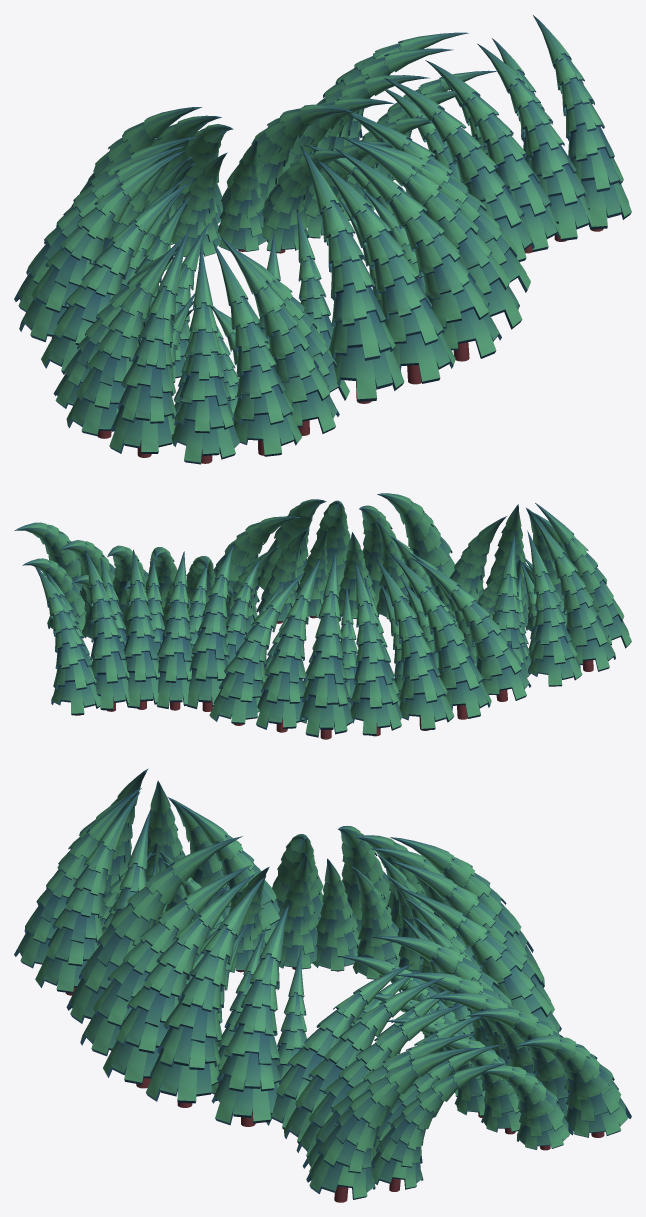
The model's file is Trees_Lowpoly.fbx.
3 renders of one model, top to bottom at view 1: azimuth 30°, elevation 25°; view 2: azimuth 150°, elevation 25°; view 3: azimuth 270°, elevation 25°, orthographic. The views are drawn at different scales.
Parts seen in each view (by area): view 1: Tree_28, Tree_27, Tree_26, Tree_40, Tree_39, Tree_38, Tree_48, Tree_11, Tree_41, Tree_37, Tree_47, Tree_25 (+33 smaller); view 2: Tree_14, Tree_15, Tree_12, Tree_13, Tree_11, Tree_16, Tree_10, Tree_58, Tree_41, Tree_42, Tree_54, Tree_55 (+39 smaller); view 3: Tree_25, Tree_24, Tree_26, Tree_48, Tree_28, Tree_37, Tree_27, Tree_54, Tree_53, Tree_16, Tree_45, Tree_44 (+34 smaller).
Boxes of the visible parts, x1,y1,x2,y2 form: Tree_28: (300,145,404,403); Tree_27: (314,157,455,384); Tree_26: (334,148,501,361); Tree_40: (109,228,189,457); Tree_39: (171,244,240,464); Tree_38: (212,241,302,456); Tree_48: (533,15,631,231); Tree_11: (19,150,185,342); Tree_41: (66,236,184,438); Tree_37: (219,235,339,435); Tree_47: (477,43,593,241); Tree_25: (342,137,522,329); Tree_14: (299,550,352,739); Tree_15: (256,557,321,732); Tree_12: (376,559,454,730); Tree_13: (350,562,402,736); Tree_11: (389,552,491,719); Tree_16: (209,572,304,725); Tree_10: (412,558,530,701); Tree_58: (187,544,234,711); Tree_41: (531,515,615,671); Tree_42: (527,530,582,686); Tree_54: (34,565,100,715); Tree_55: (85,550,129,711); Tree_25: (146,875,266,1107); Tree_24: (211,902,289,1126); Tree_26: (103,873,256,1088); Tree_48: (306,1048,479,1202); Tree_28: (66,836,242,1023); Tree_37: (35,791,140,995); Tree_27: (80,865,251,1056); Tree_54: (515,1035,631,1137); Tree_53: (372,1063,508,1191); Tree_16: (400,888,561,1033); Tree_45: (284,977,444,1143); Tree_44: (266,963,413,1129).
Size of the model in its own units: 6433 by 1962 by 5493.
1 material, 1 textured.
